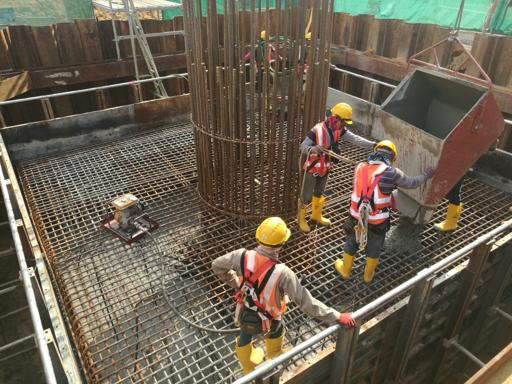hard hat: (256, 216, 294, 246), (332, 102, 356, 123)
safe person: (212, 215, 321, 366), (343, 141, 404, 279), (300, 95, 355, 227)
